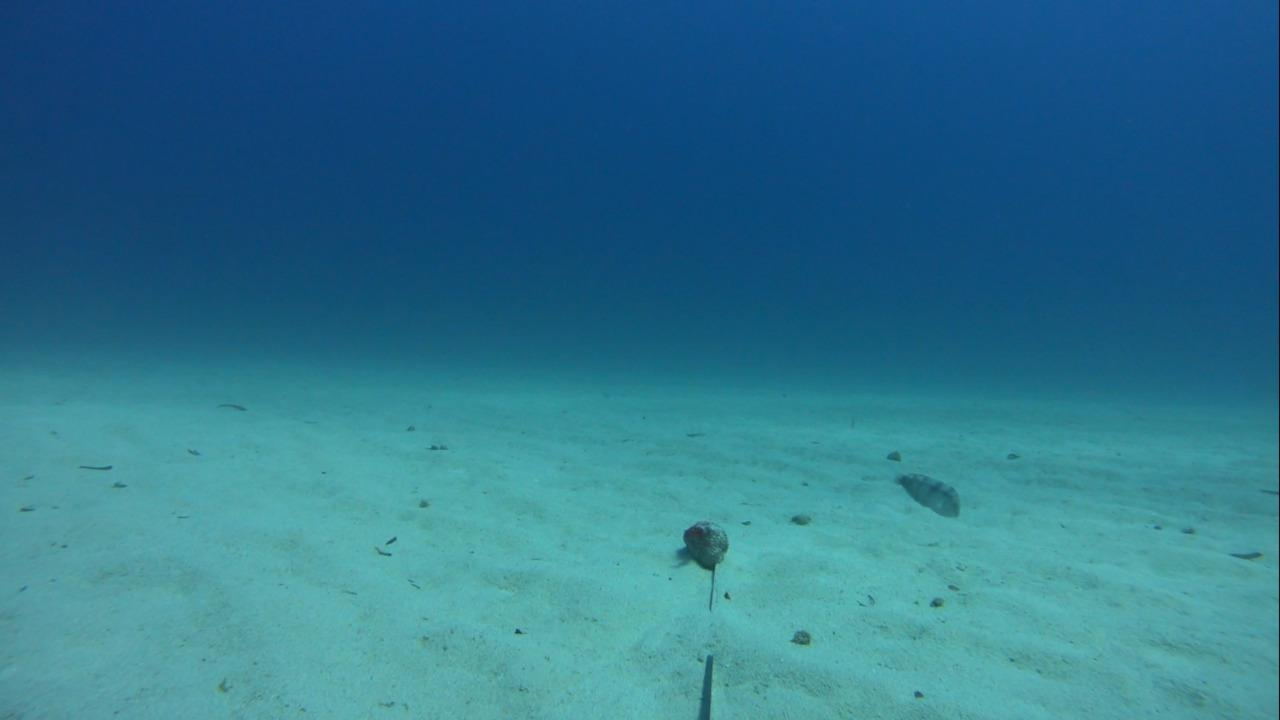raor: (888, 464, 965, 521)
